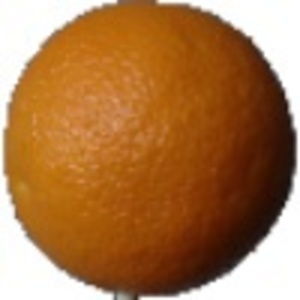laranja: (4, 4, 296, 296)
